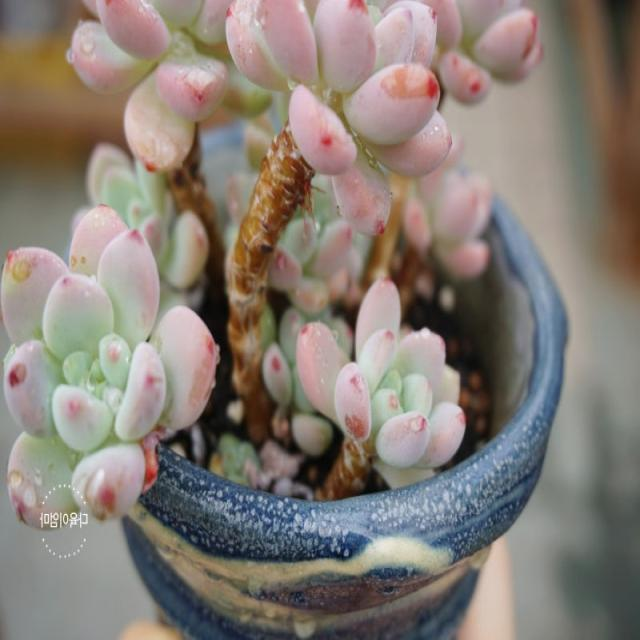LumiRose: (0, 165, 219, 528), (225, 0, 451, 233), (296, 278, 465, 469), (70, 0, 230, 171), (404, 135, 492, 279)
